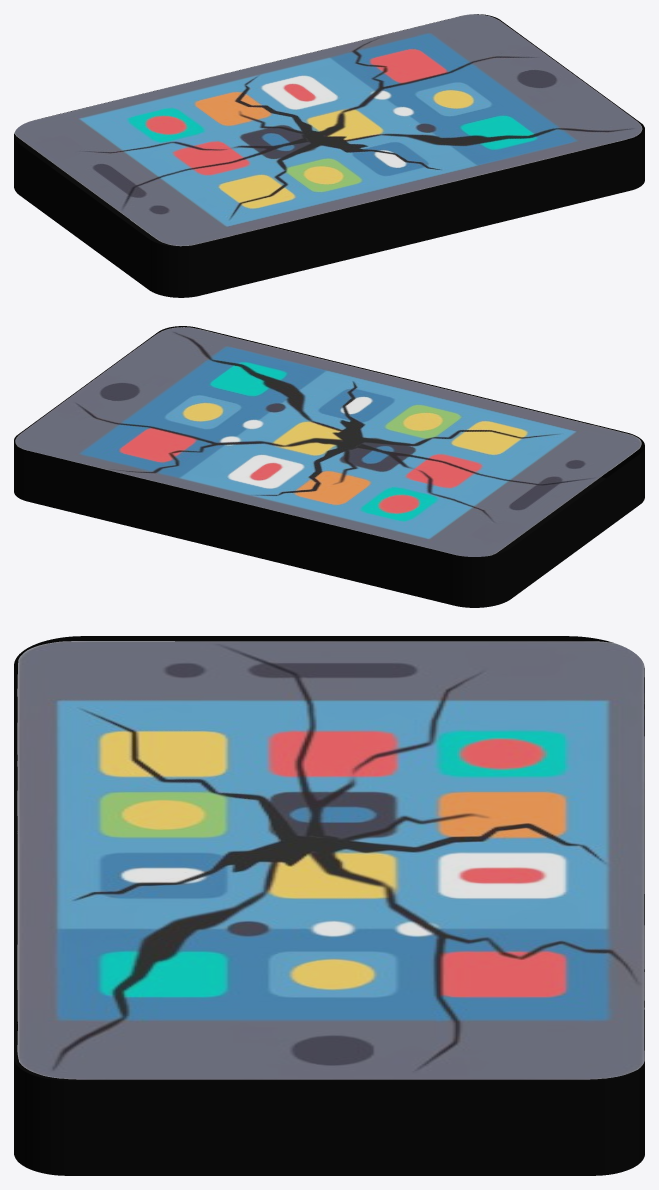
Rendered from CrashedSmartphone02.fbx.
3 views of the same model, one above another, from view 1: azimuth 30°, elevation 25°; view 2: azimuth 150°, elevation 25°; view 3: azimuth 270°, elevation 25° (orthographic). The views are drawn at different scales.
Parts seen in each view (by area): view 1: Smartphone; view 2: Smartphone; view 3: Smartphone.
Part boxes in pixels (bbox=[...]): Smartphone: bbox=[14, 14, 644, 297]; Smartphone: bbox=[14, 326, 644, 607]; Smartphone: bbox=[14, 636, 644, 1175].
Bounding box in the file's own units: 2000 × 200 × 1200.
